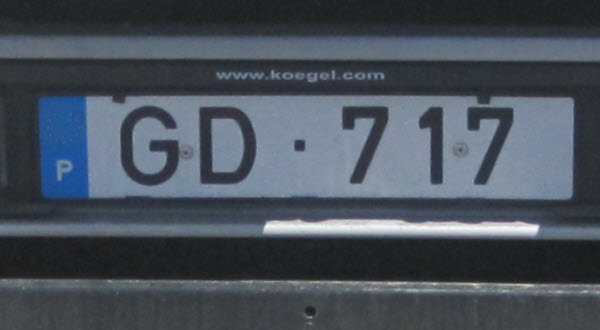license_plate: (36, 94, 575, 201)
